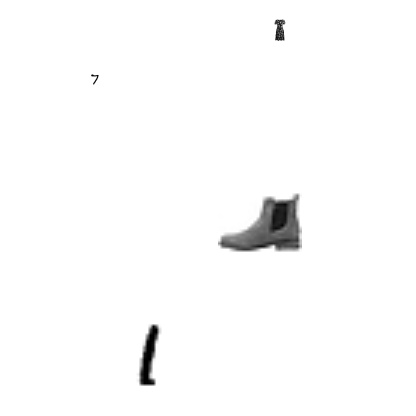1: (104, 313, 188, 397)
7: (88, 71, 102, 85)
Ankle_boot: (218, 179, 302, 263)
Dress: (269, 19, 291, 41)
